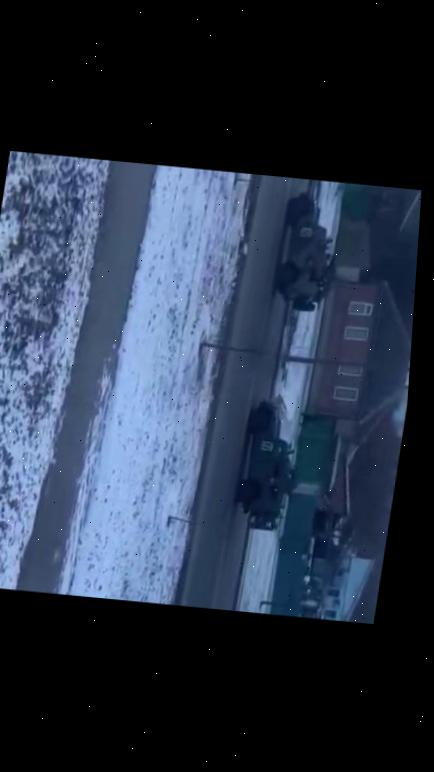armored_car: (227, 399, 309, 533), (264, 190, 345, 316)
